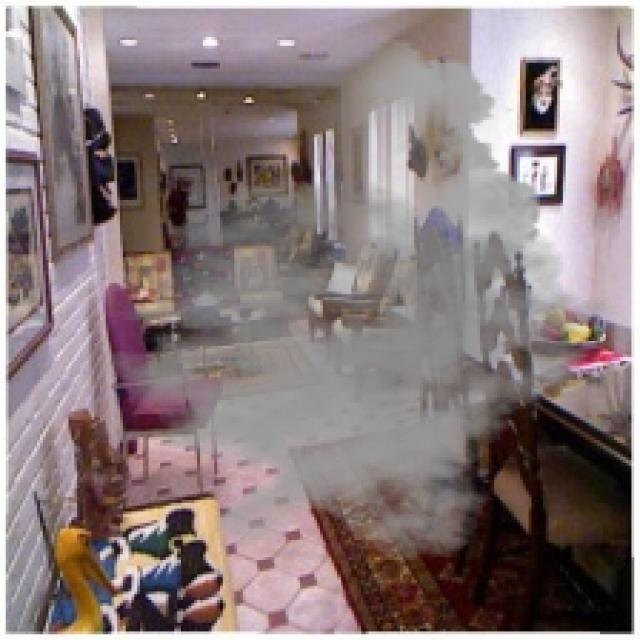Smoke: (63, 31, 612, 563)
